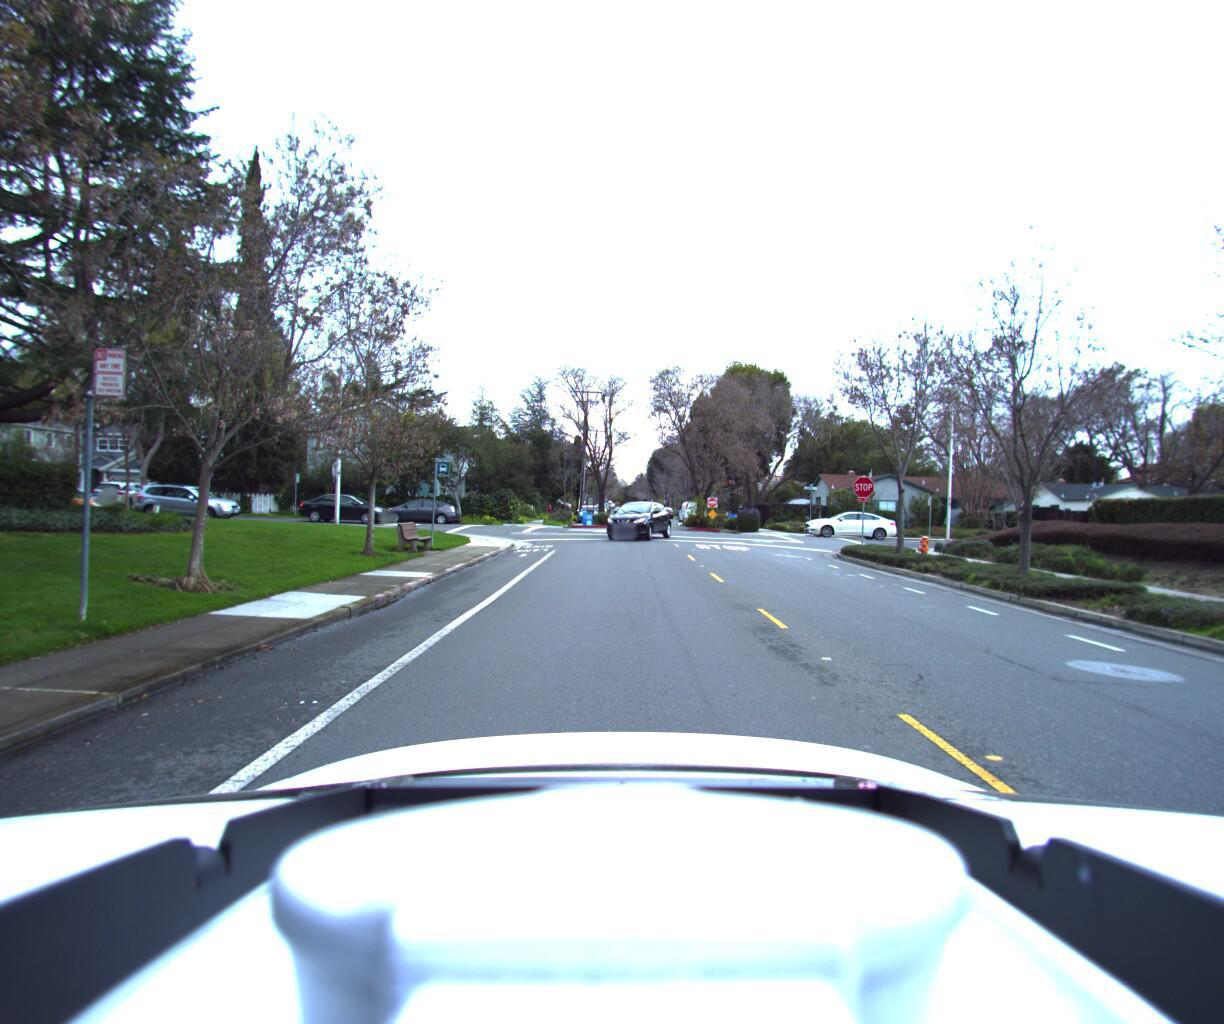car: (128, 481, 244, 524), (290, 493, 397, 528), (597, 502, 675, 543), (799, 511, 899, 543), (378, 497, 460, 527), (84, 480, 155, 509), (574, 504, 597, 524)
